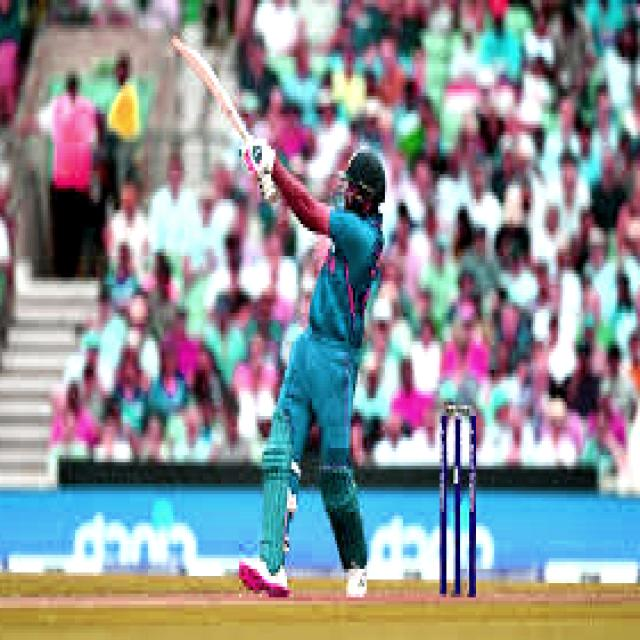toe: (164, 33, 189, 58)
